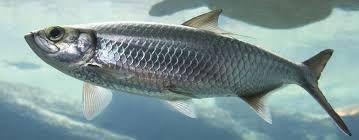Indo-Pacific Tarpon: (24, 10, 359, 140)
